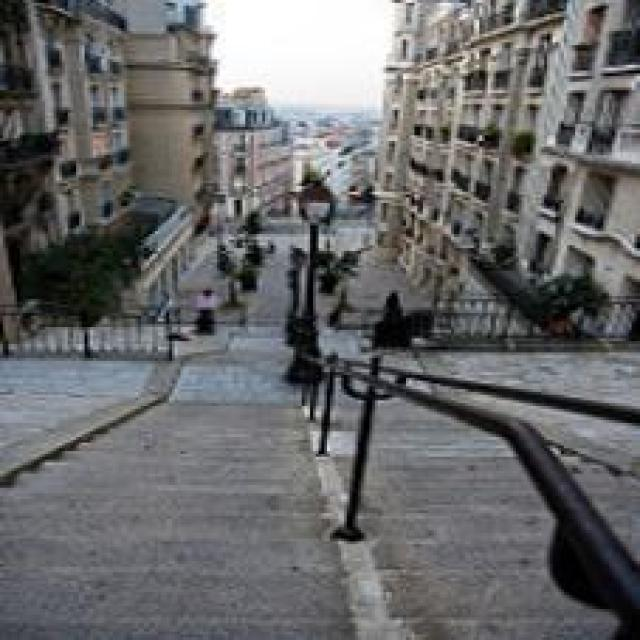downstair: (18, 455, 351, 638)
